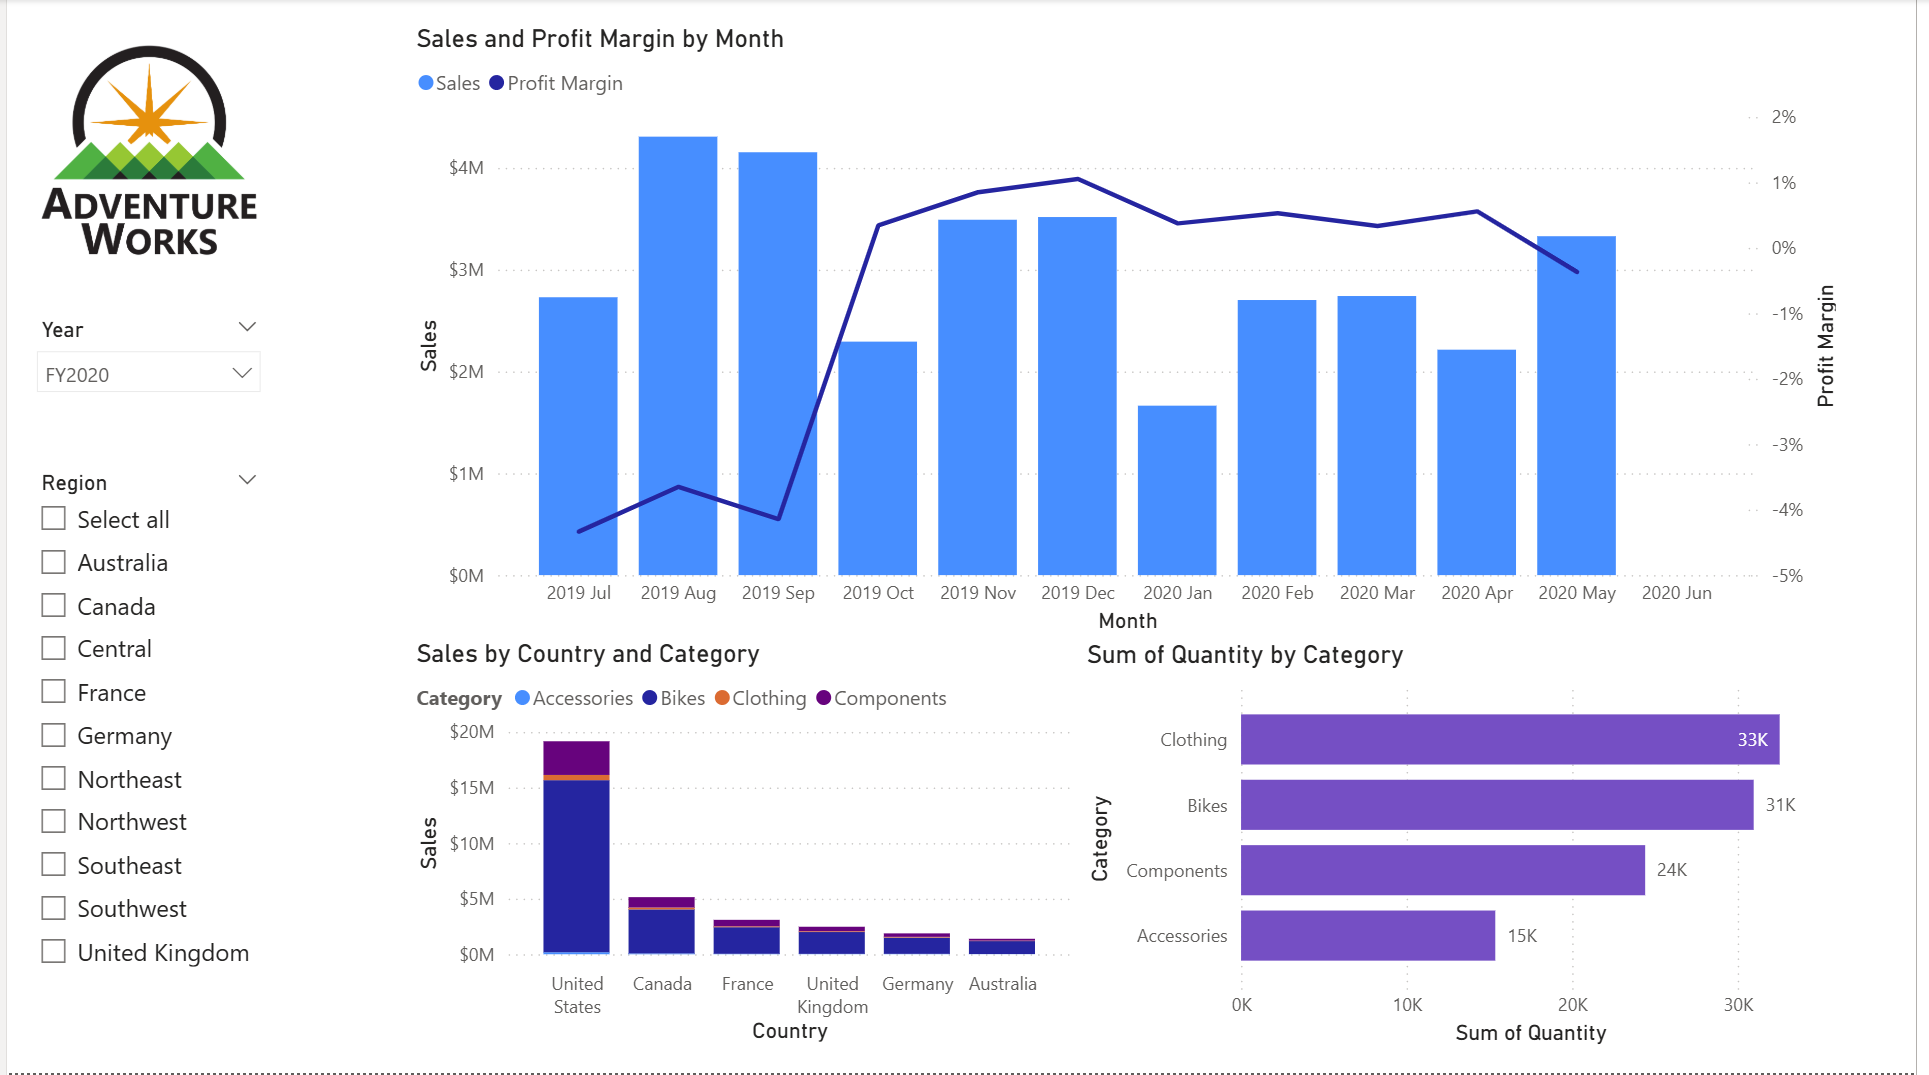

What the dashboard file says about the page in this screenshot:
{"tool":"powerbi","page":{"name":"Overview","canvas":[1280,720],"ordinal":0},"visuals":[{"type":"image","box":[10,16,170,170],"z":0},{"type":"slicer","fields":{"Values":["Date.Year"]},"box":[10,208,170,71],"z":1000},{"type":"slicer","fields":{"Values":["Region.Region"]},"box":[10,311,170,393],"z":2000},{"type":"lineStackedColumnComboChart","fields":{"Category":["Date.Month"],"Y":["Sum(Sales.Sales)"],"Y2":["Sales.Profit Margin"]},"box":[270,15.7,961.4,412.9],"z":3000},{"type":"columnChart","fields":{"Category":["Region.Country"],"Y":["Sum(Sales.Sales)"],"Series":["Product.Category"]},"box":[270,428.6,448.6,275.7],"z":4000},{"type":"barChart","fields":{"Category":["Product.Category"],"Y":["Sum(Sales.Quantity)"]},"box":[719,429,512,276],"z":5000}]}

Visuals, with their boxes in screenshot pixels (x1, y1, x2, y2), scaled from the page's 1280x720 canvas onto the 1929x1075 screenshot:
image: Rect(15, 24, 271, 278)
slicer - Date.Year: Rect(15, 311, 271, 417)
slicer - Region.Region: Rect(15, 464, 271, 1051)
lineStackedColumnComboChart - Date.Month x Sum(Sales.Sales): Rect(407, 23, 1856, 640)
columnChart - Region.Country x Sum(Sales.Sales): Rect(407, 640, 1083, 1052)
barChart - Product.Category x Sum(Sales.Quantity): Rect(1084, 641, 1855, 1053)
